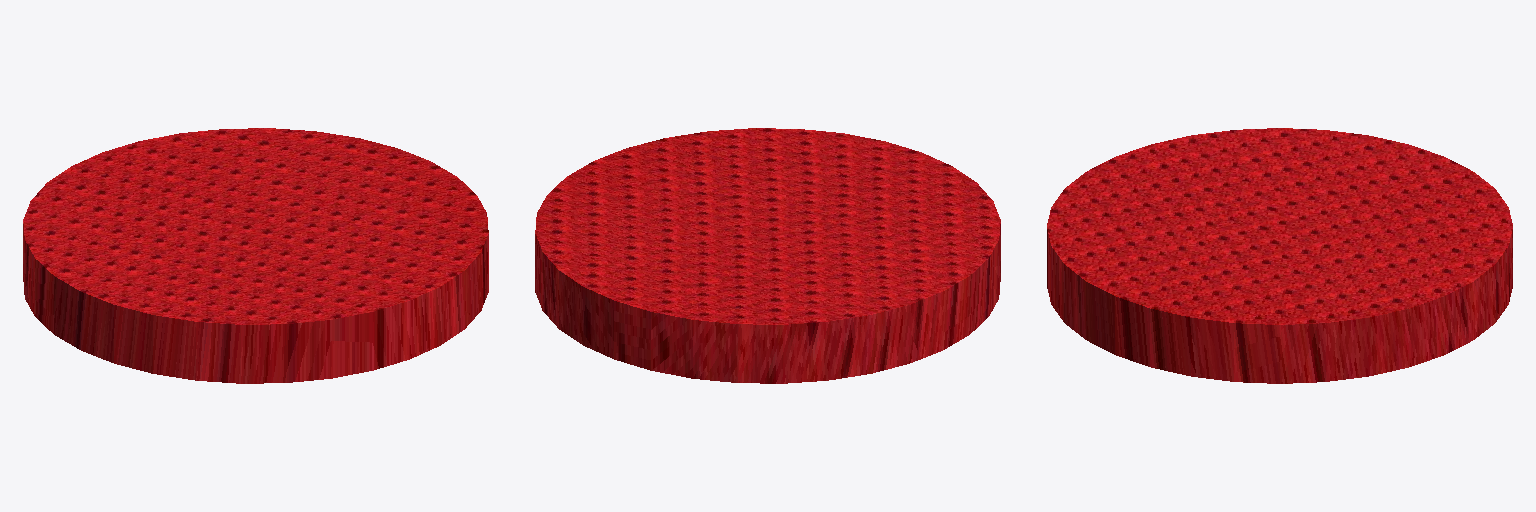
3 views of the same model, side by side, from view 1: azimuth 30°, elevation 25°; view 2: azimuth 150°, elevation 25°; view 3: azimuth 270°, elevation 25° (orthographic).
Visible parts, largest first — view 1: Cylinder; view 2: Cylinder; view 3: Cylinder.
Part boxes in pixels (x1,y1,x2,y2): Cylinder: (23,128,488,383); Cylinder: (535,128,1000,383); Cylinder: (1047,128,1512,383).
Size of the model in its own units: 2.18 by 0.3038 by 2.18.
Materials: 1 (1 with a texture image).